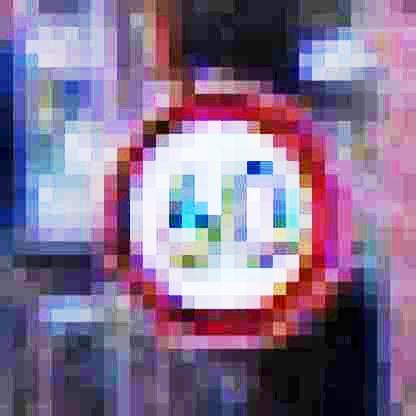Speed Limit -60-: (97, 76, 358, 350)
